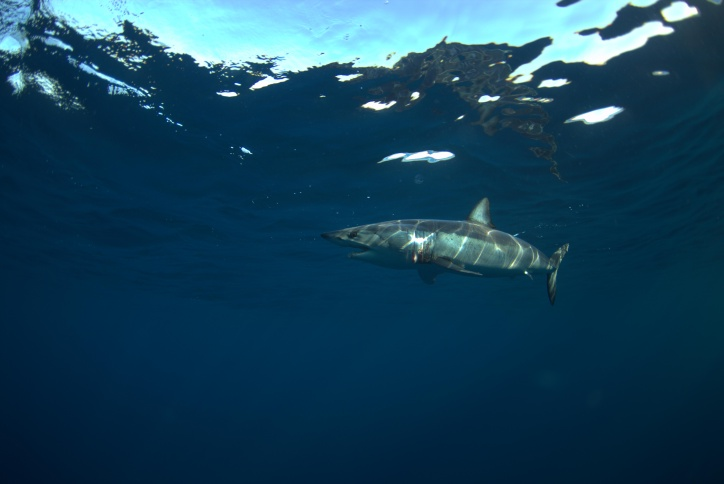Mako: (316, 192, 578, 315)
